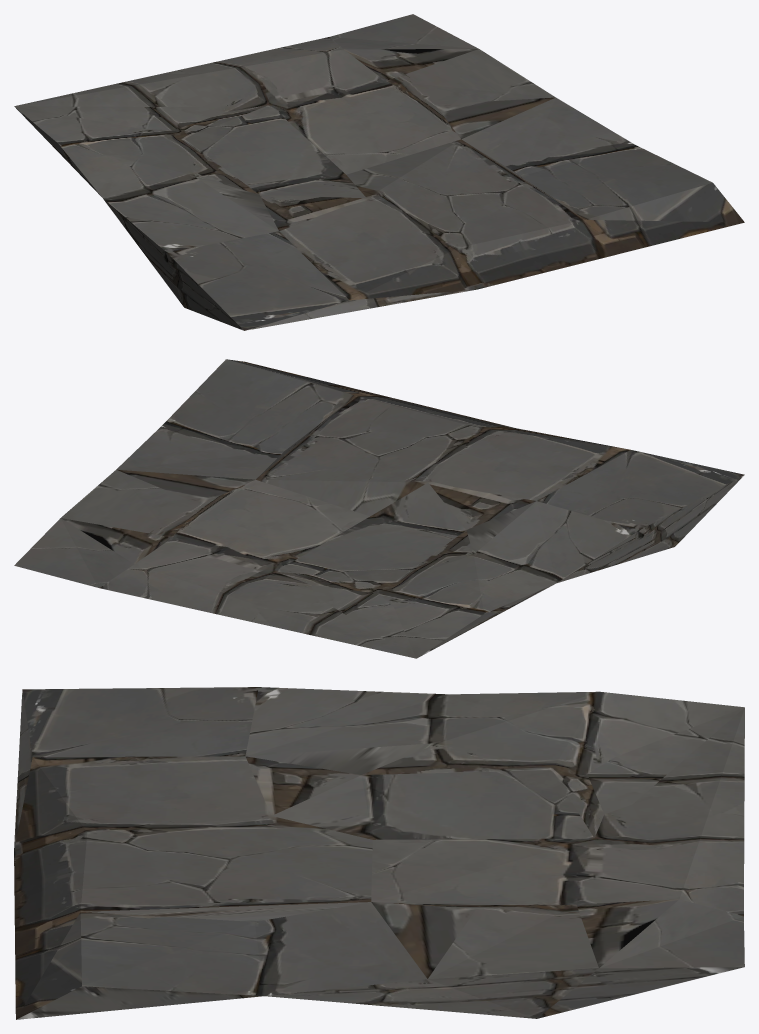
The model's file is SM_Dungeon_Floor_A_LOD3.glb.
The picture shows the model from 3 angles, top to bottom: view 1: azimuth 30°, elevation 25°; view 2: azimuth 150°, elevation 25°; view 3: azimuth 270°, elevation 25°; orthographic projection. The views are drawn at different scales.
Parts seen in each view (by area): view 1: SM_Dungeon_Floor_A_LOD3; view 2: SM_Dungeon_Floor_A_LOD3; view 3: SM_Dungeon_Floor_A_LOD3.
Boxes of the visible parts, <box> form: SM_Dungeon_Floor_A_LOD3: <box>14,14,744,330</box>; SM_Dungeon_Floor_A_LOD3: <box>14,359,744,658</box>; SM_Dungeon_Floor_A_LOD3: <box>14,687,744,1019</box>.
Bounding box in the file's own units: 3.96 × 0.3123 × 3.87.
1 material, 1 textured.
